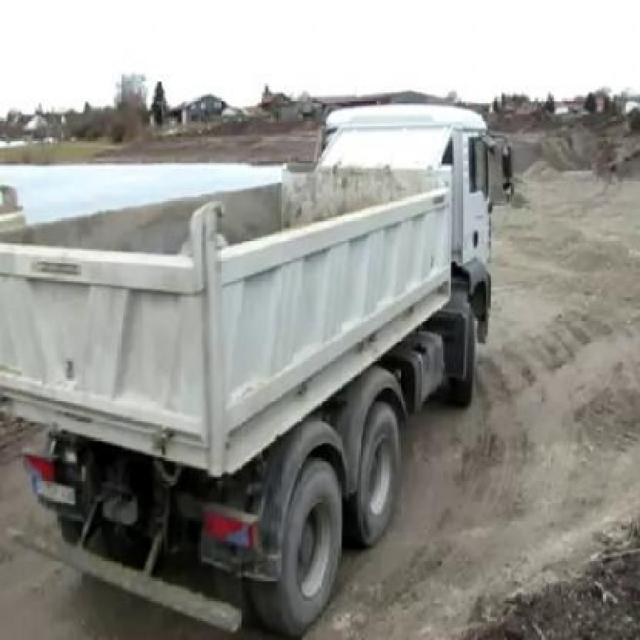Dump Truck: (0, 101, 514, 638)
